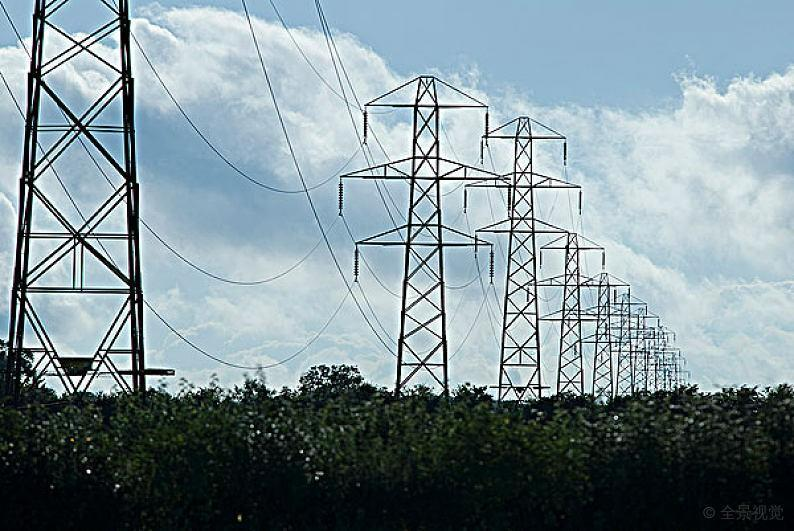power_tower: (338, 72, 495, 403), (481, 108, 576, 414), (536, 218, 605, 408)
